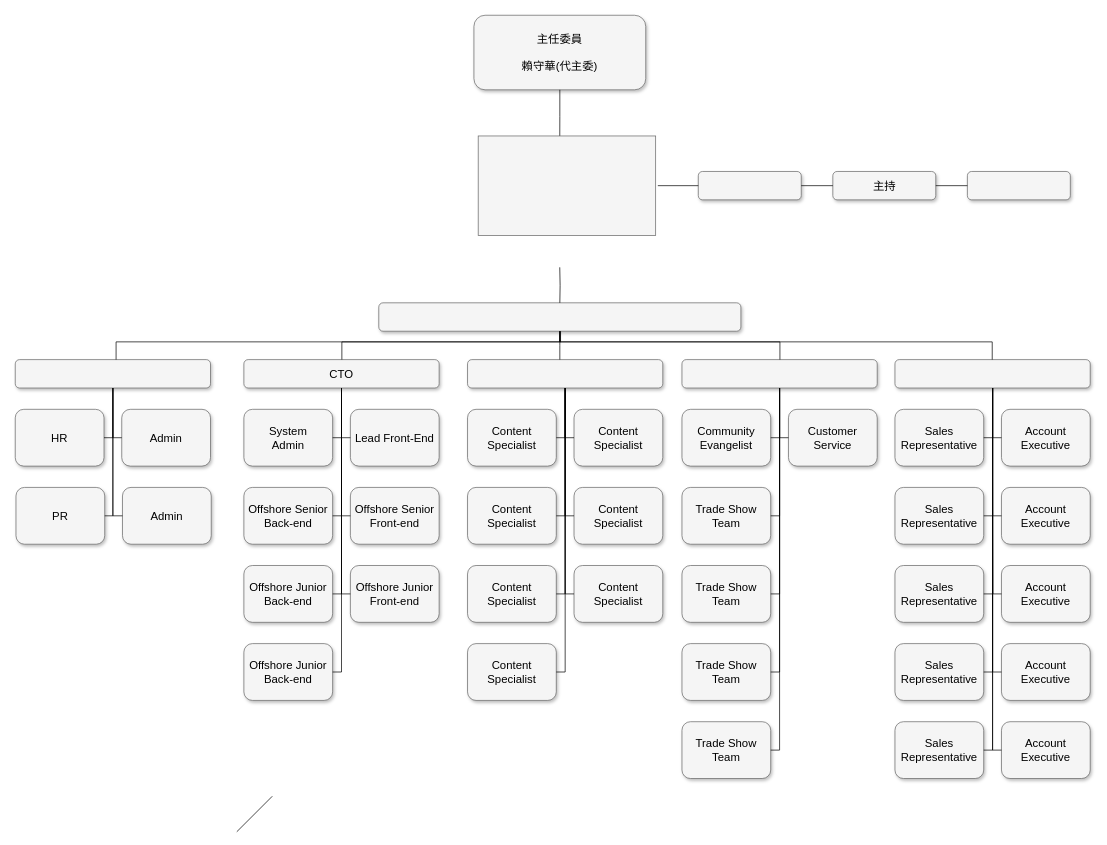
Image size: 1107x845. Some labels were removed from this diagram. The centre of each missing label's shape, as x and y in pixels:
CCO: point (565, 374)
CFO: point (113, 374)
CMO: point (779, 374)
COO: point (560, 317)
CSO: point (992, 374)
副主委 AAA BBB CCC: point (566, 185)
宮主: point (750, 186)
監察委員: point (1019, 186)
